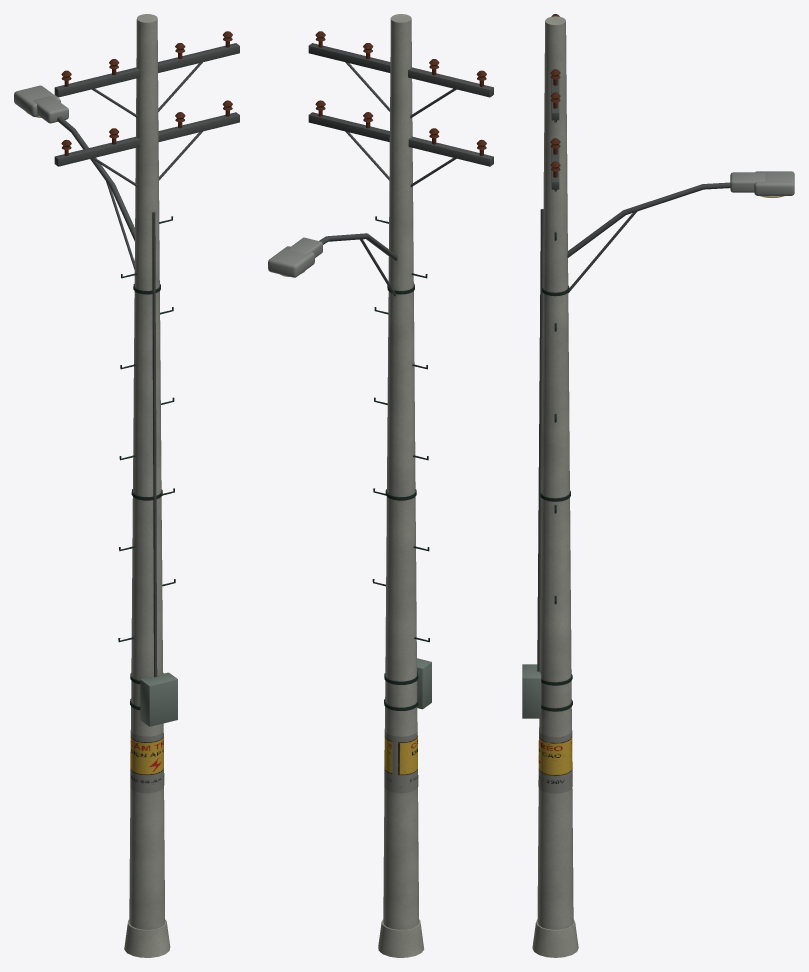
Rendered from CTCC_ENV_UtilityPoleAndLamp.fbx.
The picture shows the model from 3 angles, left to right: view 1: azimuth 30°, elevation 25°; view 2: azimuth 150°, elevation 25°; view 3: azimuth 270°, elevation 25°; orthographic projection.
Visible parts, largest first — view 1: CTCC_ENV_UtilityPoleAndLamp_LOD0; view 2: CTCC_ENV_UtilityPoleAndLamp_LOD0; view 3: CTCC_ENV_UtilityPoleAndLamp_LOD0.
Boxes of the visible parts, x1,y1,x2,y2 form: CTCC_ENV_UtilityPoleAndLamp_LOD0: (14, 14, 239, 957); CTCC_ENV_UtilityPoleAndLamp_LOD0: (268, 14, 493, 957); CTCC_ENV_UtilityPoleAndLamp_LOD0: (522, 14, 794, 957).
Size of what is drawn, in the model's own units: 1.76 by 8.6 by 2.29.
